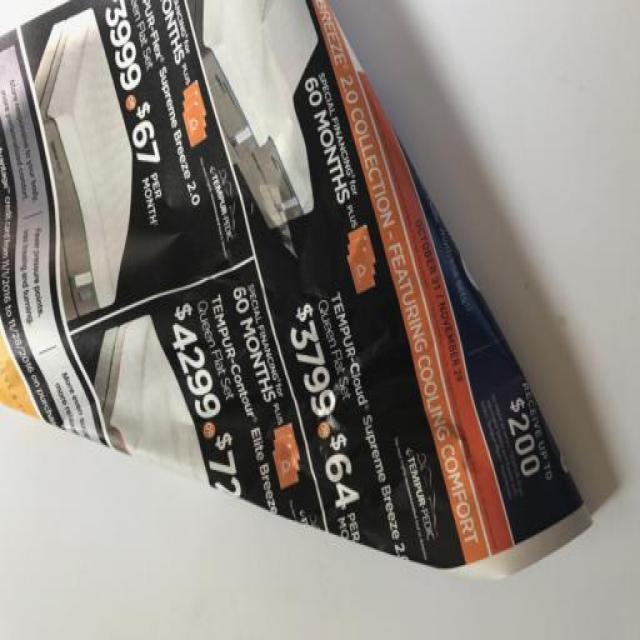paper: (3, 5, 601, 585)
